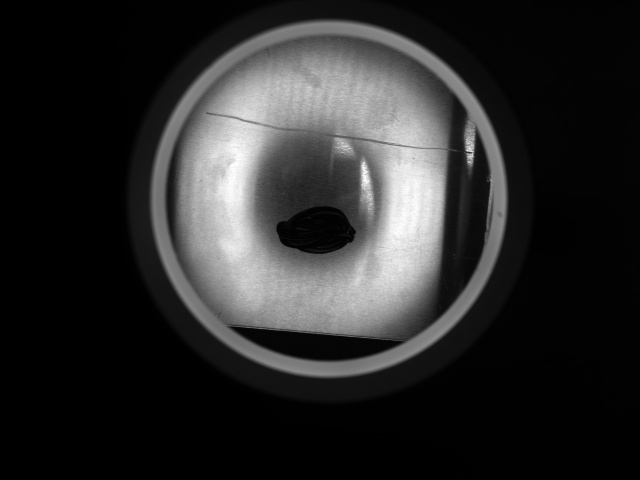ca_shang: (203, 108, 472, 157)
zang_wu: (274, 204, 357, 255)
